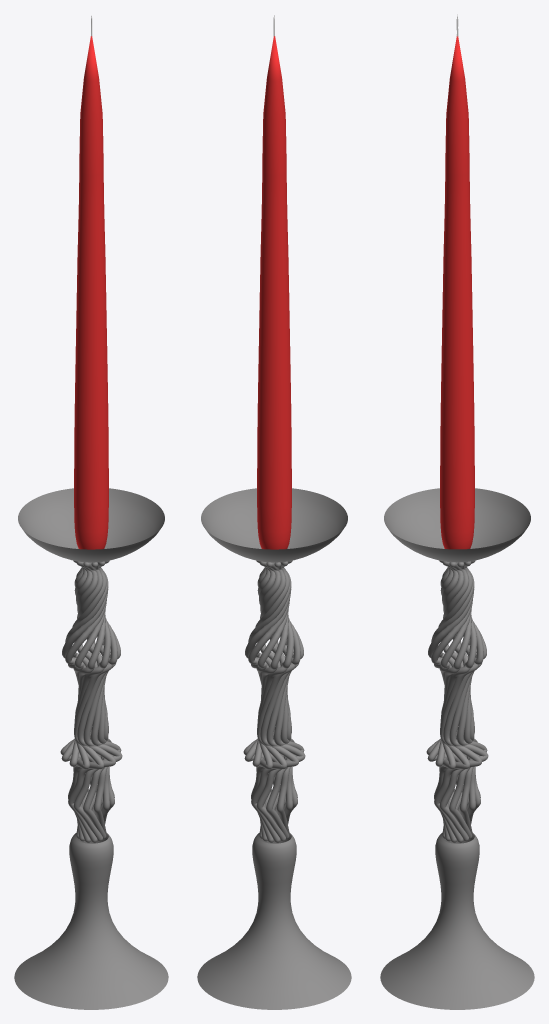
Rendered from Candelabro.fbx.
3 renders of one model, left to right at view 1: azimuth 30°, elevation 25°; view 2: azimuth 150°, elevation 25°; view 3: azimuth 270°, elevation 25°, orthographic.
Parts seen in each view (by area): view 1: Object_4, Object_2, Object_5; view 2: Object_4, Object_2, Object_5; view 3: Object_4, Object_2, Object_5.
Boxes of the visible parts, x1,y1,x2,y2 form: Object_4: (14,488,168,1009); Object_2: (74,36,108,549); Object_5: (60,560,122,842); Object_4: (197,488,351,1009); Object_2: (257,36,291,549); Object_5: (243,560,305,842); Object_4: (380,488,534,1009); Object_2: (440,36,474,549); Object_5: (426,560,488,842).
Bounding box in the file's own units: 25.37 × 175 × 25.37.
